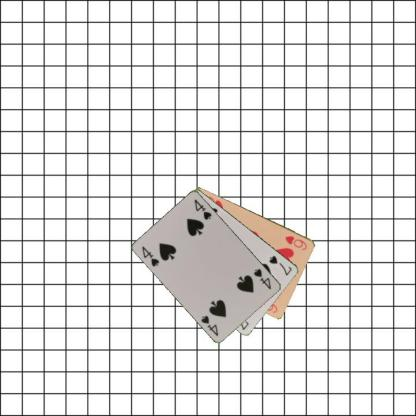4s: (139, 243, 161, 268), (251, 266, 273, 290)
6h: (282, 233, 308, 251)
7s: (267, 253, 293, 277)
